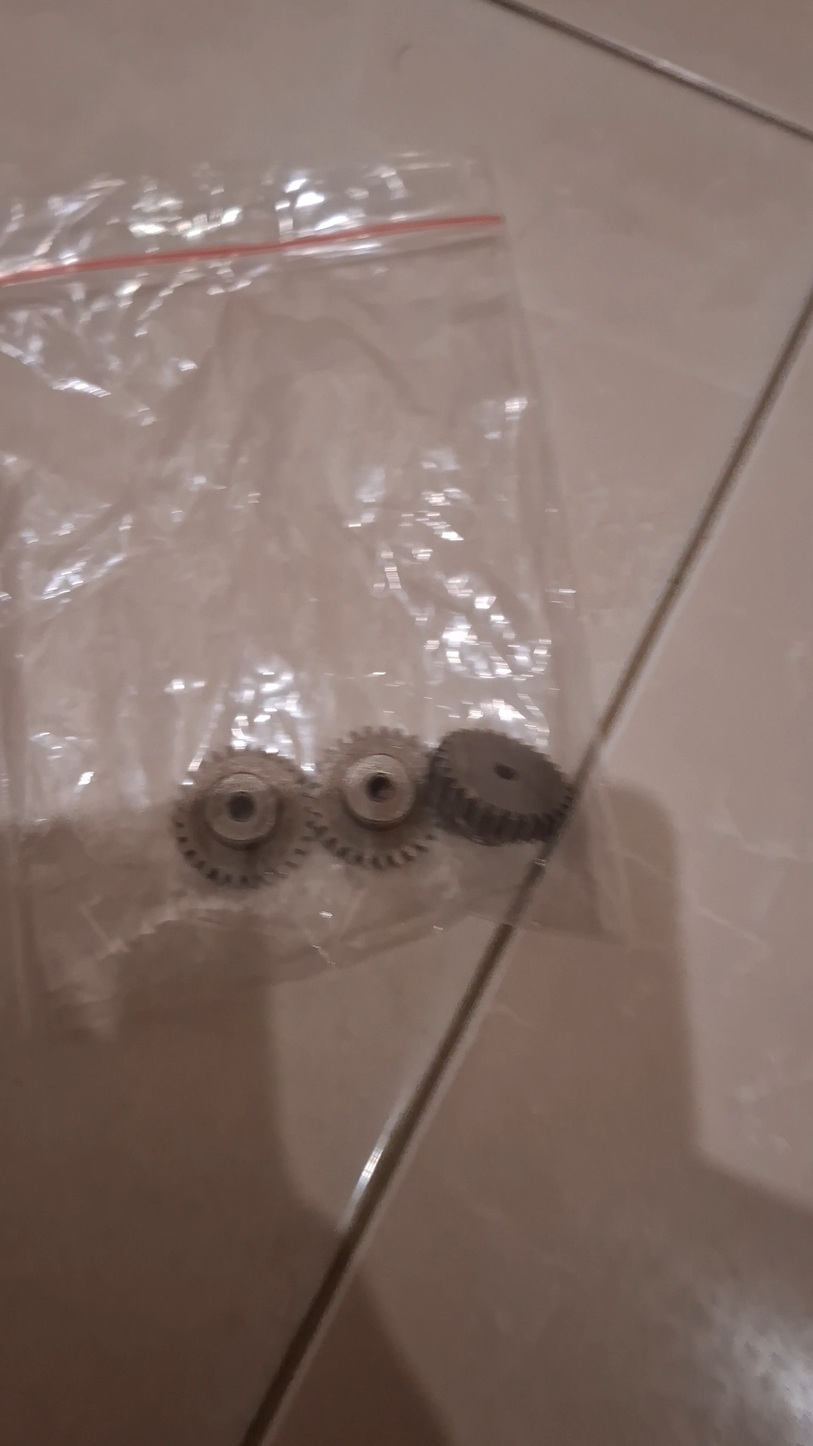spur gear: (168, 744, 319, 888), (308, 726, 446, 866), (424, 725, 577, 844)
